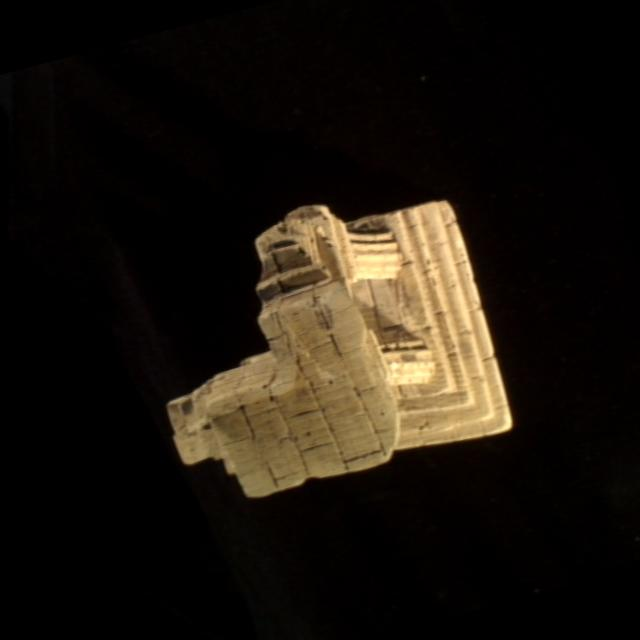Instance-Segmentation: (168, 201, 511, 497)
